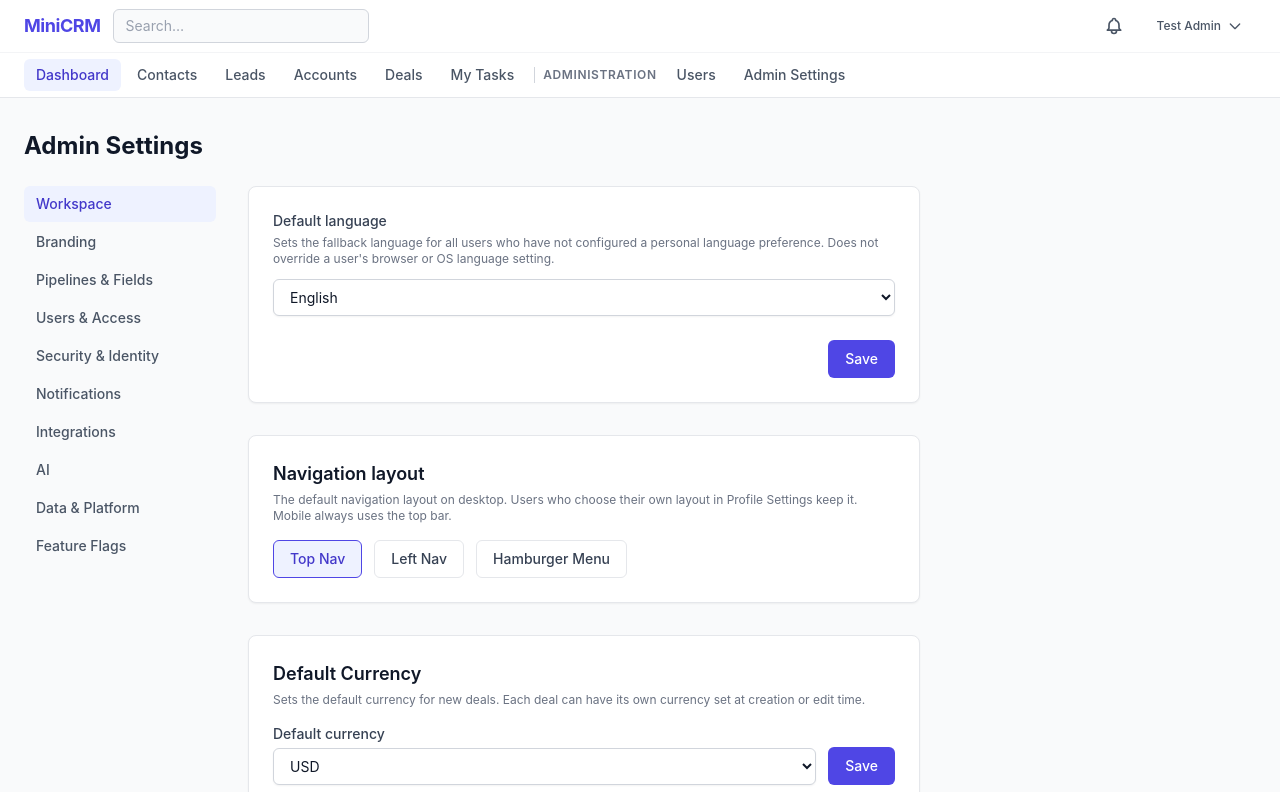
Test: AdminSettingsPage › save action › shows an error message when the save request fails
Expected: the dropdown with test id "default-language-select" is shown, left=273, top=279, right=895, bottom=316
Click the button with test id "settings-save" at x=862, y=359, box left=828, top=340, right=895, bottom=378
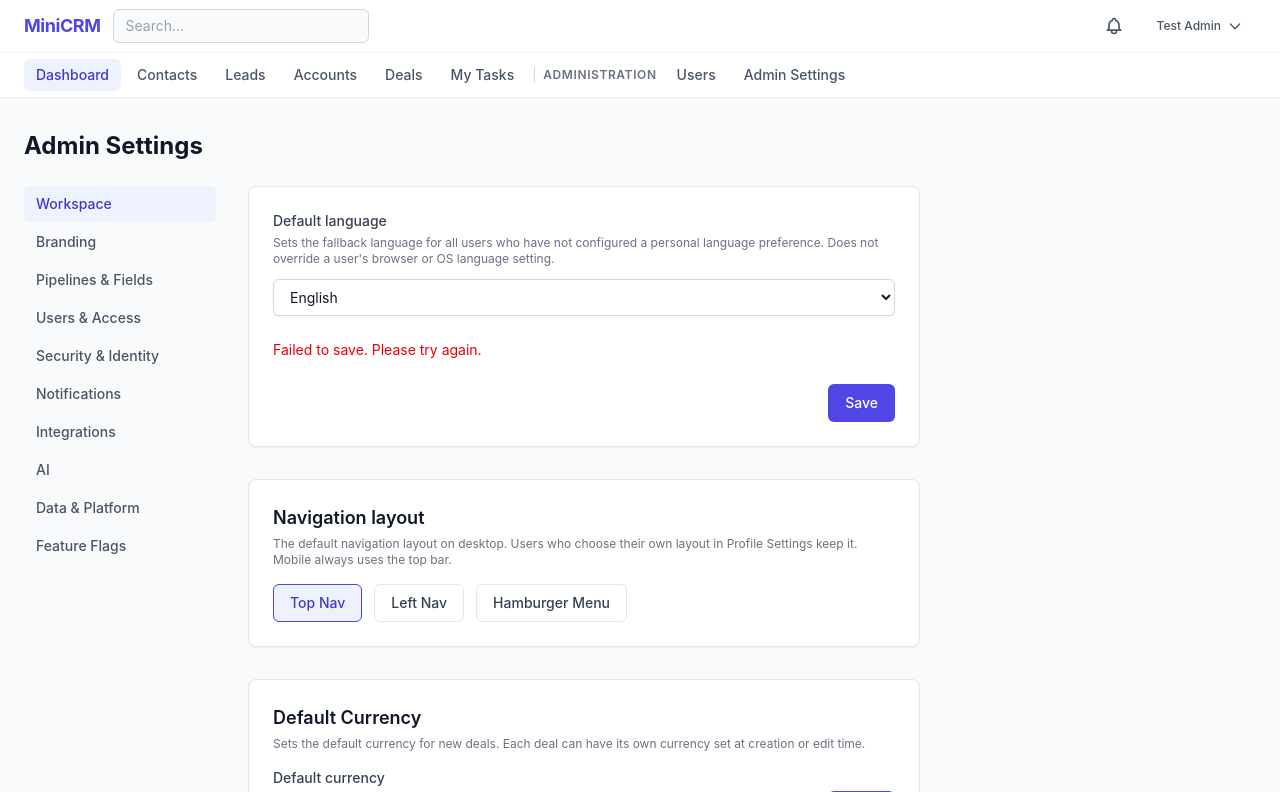
Expected: the message "Failed to save. Please try again." is shown, left=273, top=341, right=482, bottom=358
